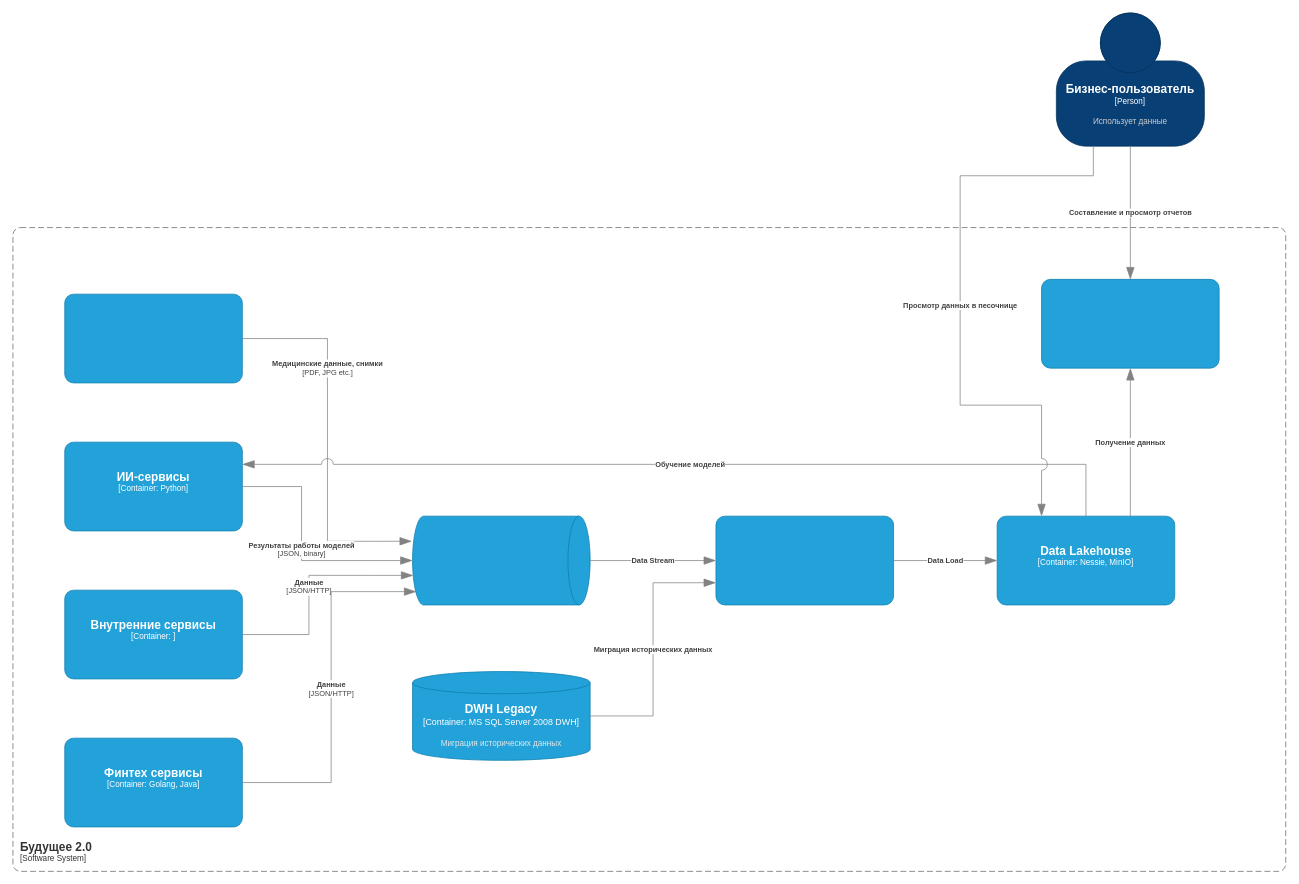
Some shapes in this 1299 by 884 pixel diagram are drawn without their labels. The shapes that lost their labels are listed below. From the top down, each one's centre as x and y in pixels, then its label:
At (153,338): "Клиентский интерфейс оператора [Container: ]".
At (1130,323): "Витрины данных [Container: DataHub, Power BI]".
At (501,560): "Шина данных [Container: Apache Kafka]".
At (804,560): "Data Pipeline [Container: Airflow, Dremio]".
